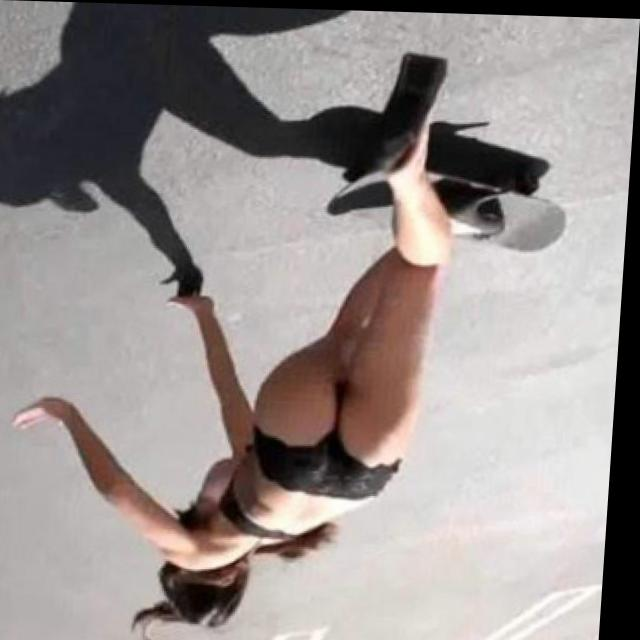fall: (6, 46, 513, 640)
